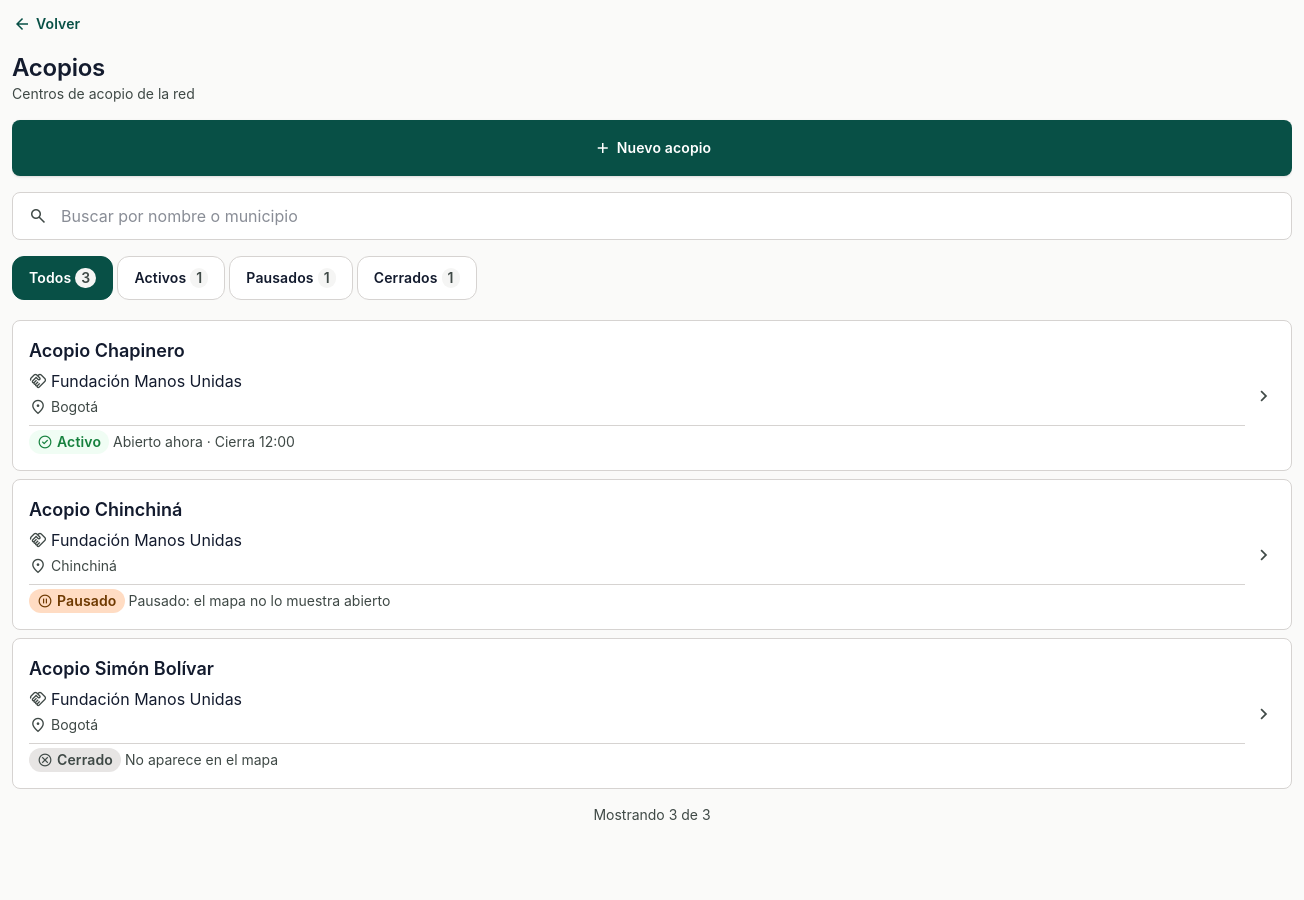
C21 lista › las píldoras filtran por estado y el buscador por nombre o municipio
Check: the link "Acopio Chapinero" is shown, box left=12, top=320, right=1292, bottom=471
Click the button "Pausados 1". click: (291,278)
box: left=229, top=256, right=353, bottom=300
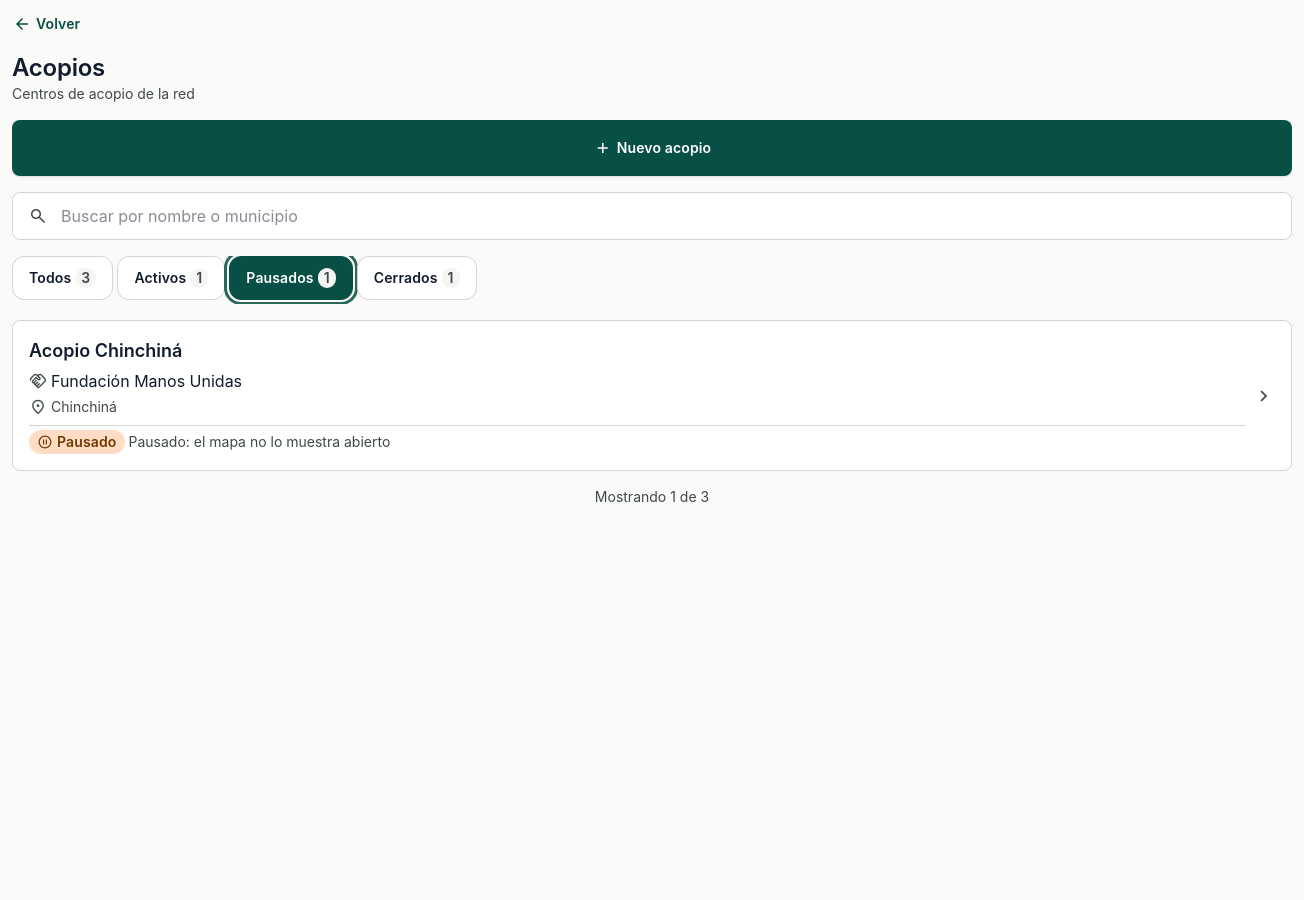
Check: the number of links "Acopio " is 1, box left=12, top=320, right=1292, bottom=471
Click the button "Todos 3". click: (63,278)
box: left=12, top=256, right=113, bottom=300
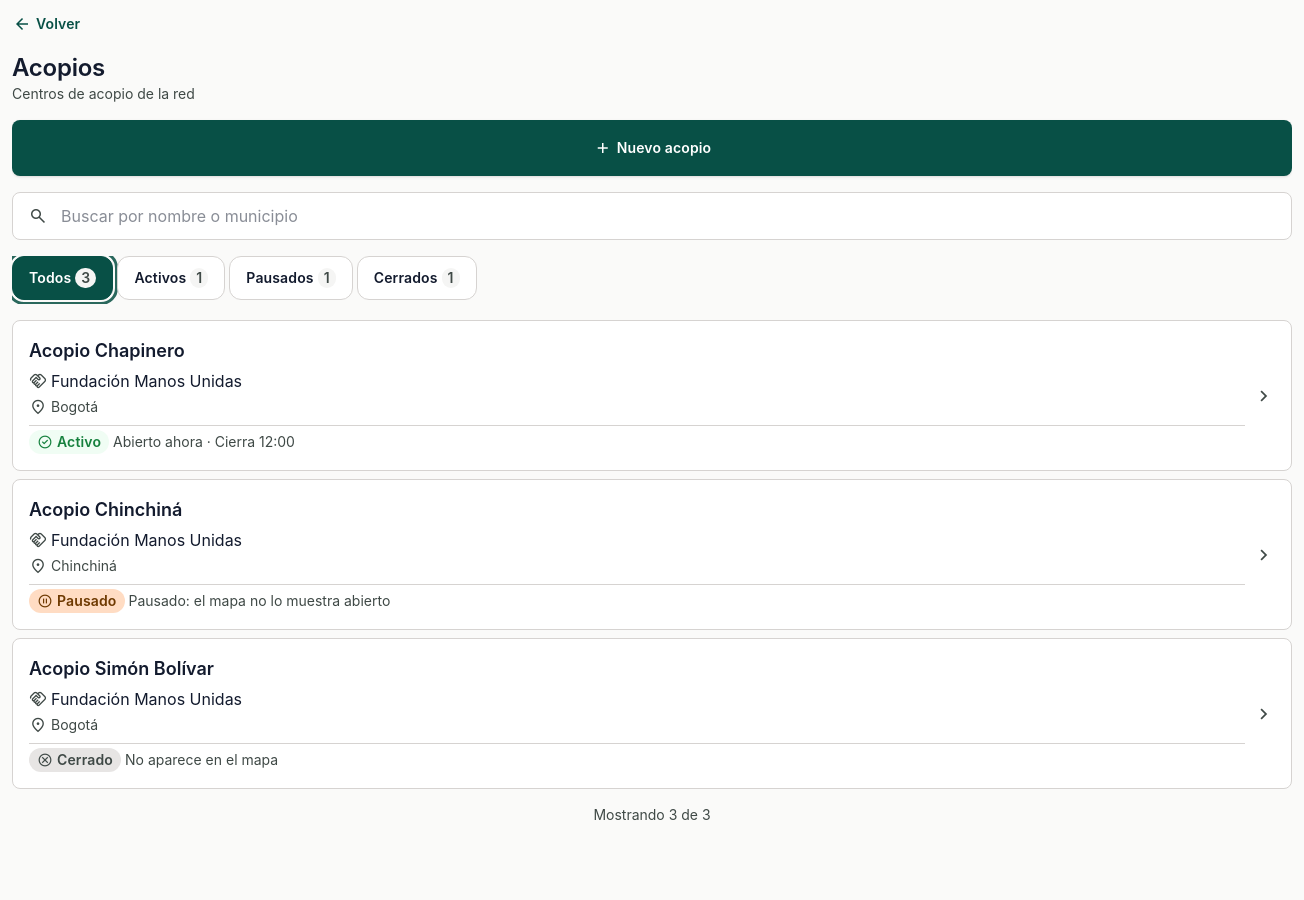
Type "chinchi" into the search field. click: (652,216)
box: left=12, top=192, right=1292, bottom=240
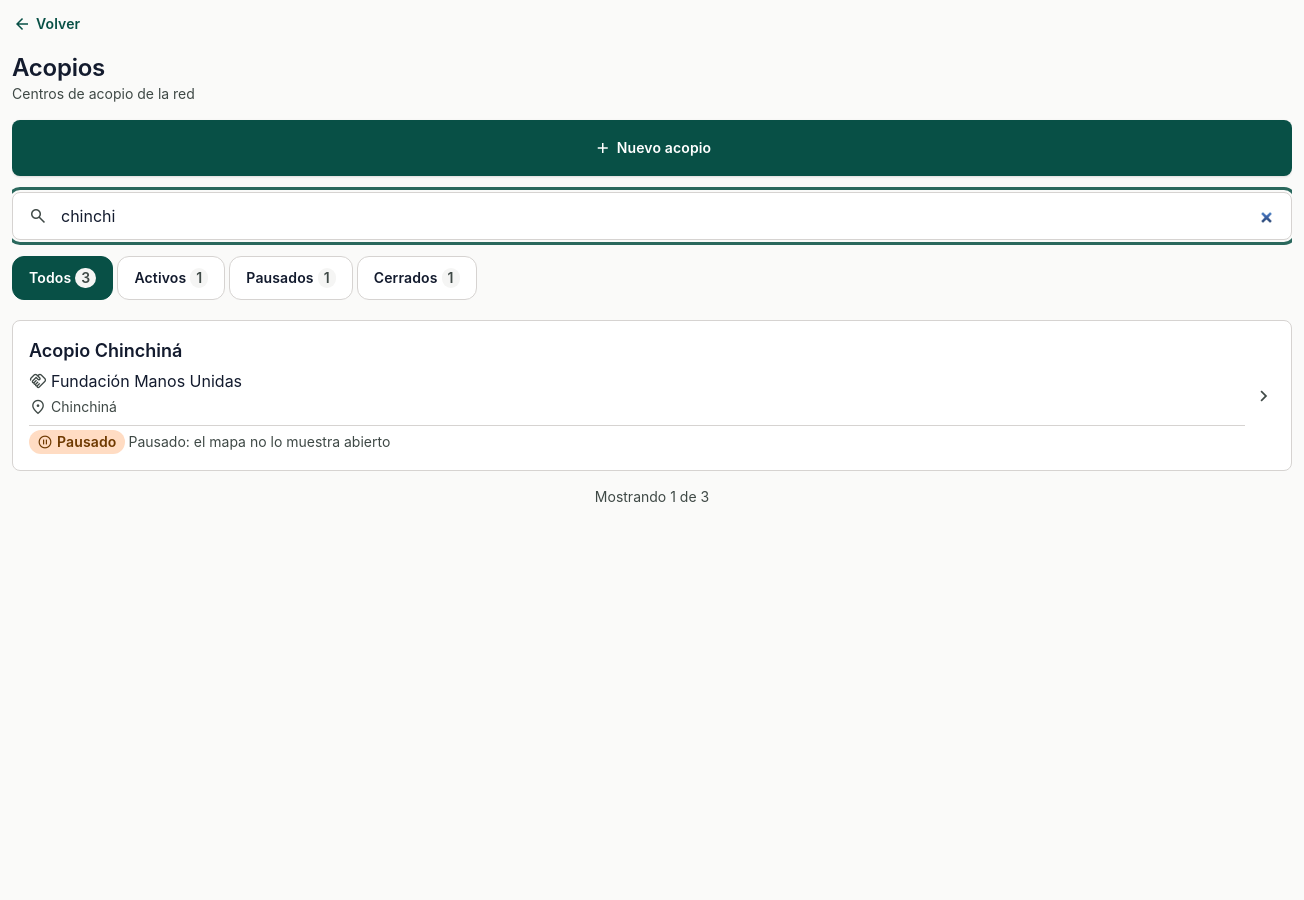
Check: the text "Mostrando 1 de 3" is shown, box left=595, top=488, right=709, bottom=505
